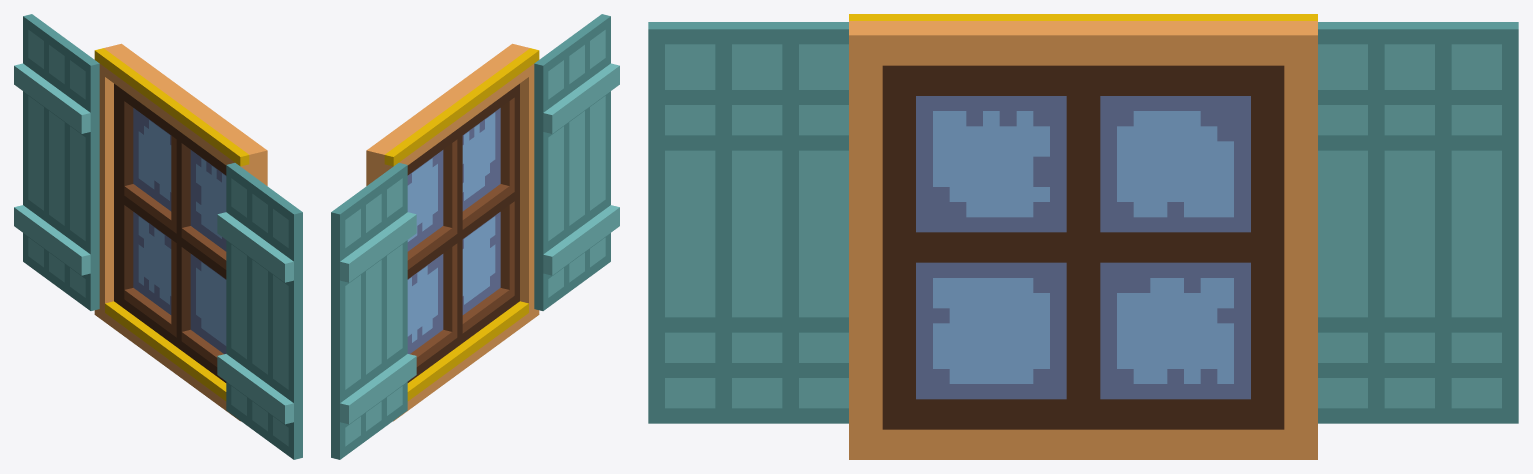
File: window_textured_small_blue_orange.obj
3 views of the same model, side by side, from view 1: azimuth 30°, elevation 25°; view 2: azimuth 150°, elevation 25°; view 3: azimuth 270°, elevation 25° (orthographic). The views are drawn at different scales.
Size of the model in its own units: 0.5 by 2.8 by 5.2.
1 material, 1 textured.
